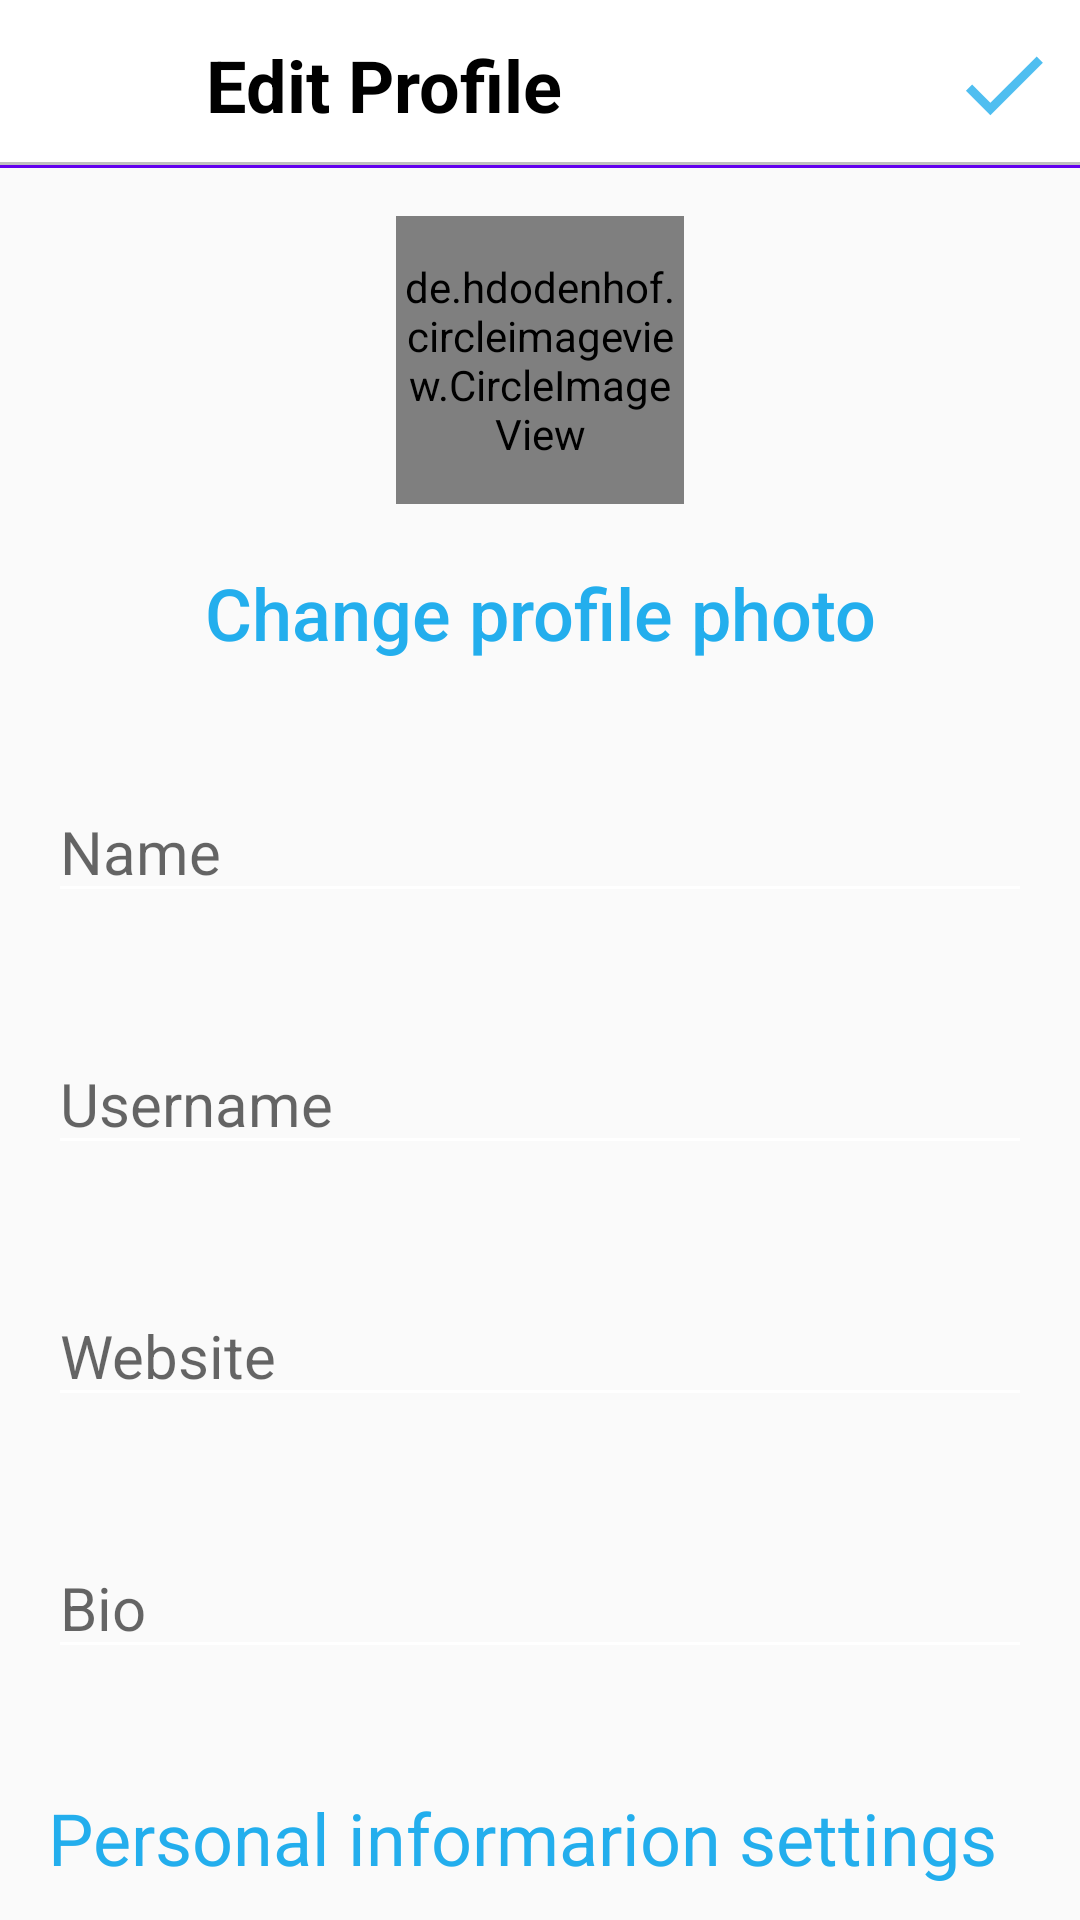

Named icons in this screenshot (1080 × 1920) and their bounding boxes, (x1,y1,x2,y2):
right: (966,56,1043,115)
